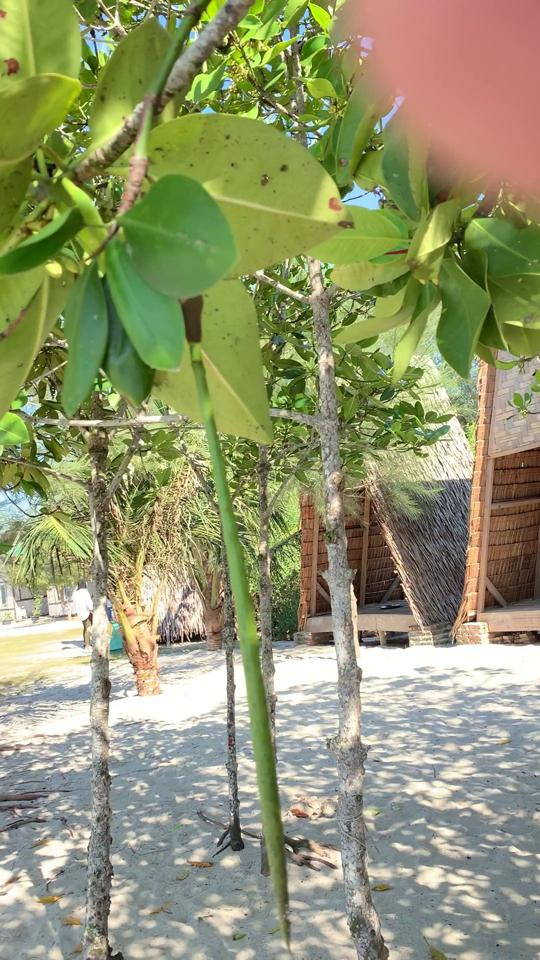setengah matang: (156, 280, 309, 956)
